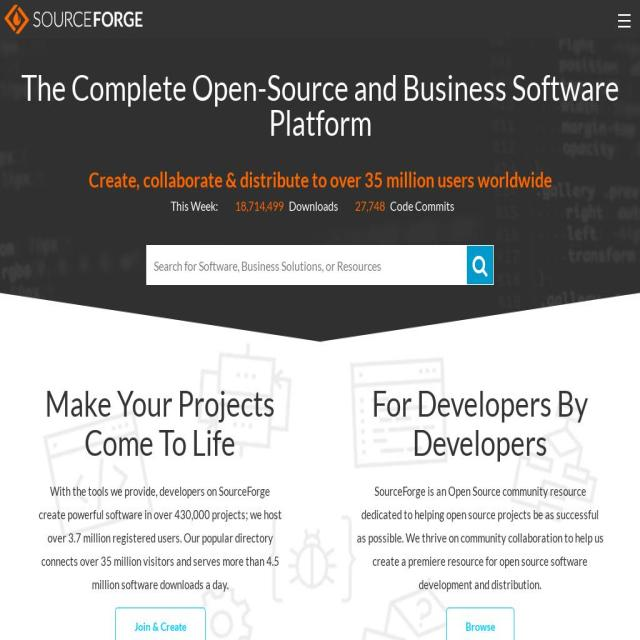button: (4, 0, 142, 38), (114, 607, 205, 640), (445, 607, 514, 640)
field: (147, 246, 467, 285)
heading: (9, 69, 630, 140), (36, 383, 284, 462), (356, 383, 604, 462), (9, 168, 630, 190)
image: (4, 0, 142, 38), (471, 254, 488, 277)
link: (235, 197, 284, 213)
text: (36, 479, 284, 596), (356, 479, 604, 596), (390, 197, 454, 213), (289, 197, 338, 213), (171, 197, 218, 213), (355, 197, 385, 213)
